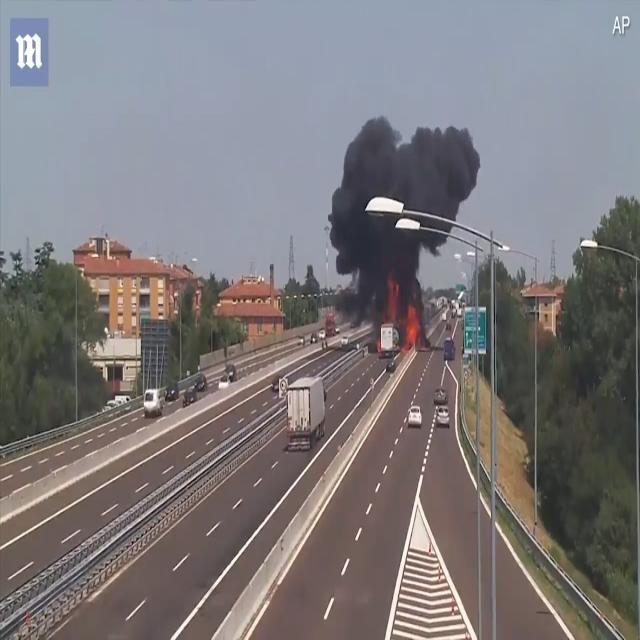Fire: (388, 280, 420, 350)
Smoke: (328, 116, 481, 328)
